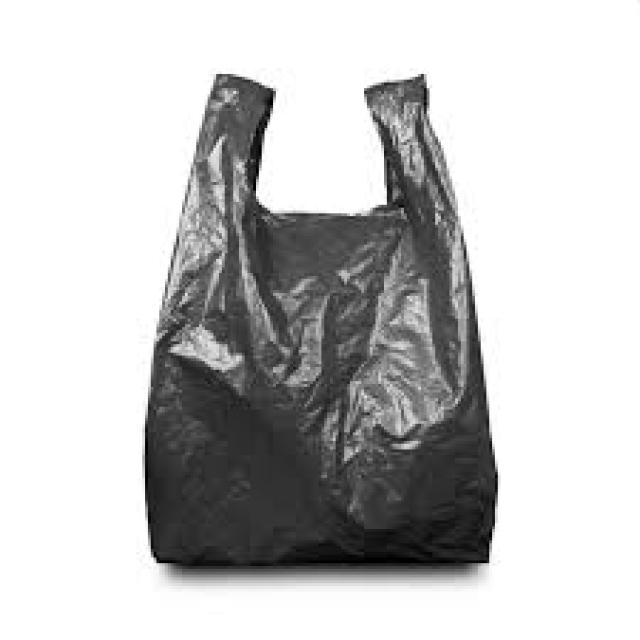residual: (137, 53, 514, 586)
